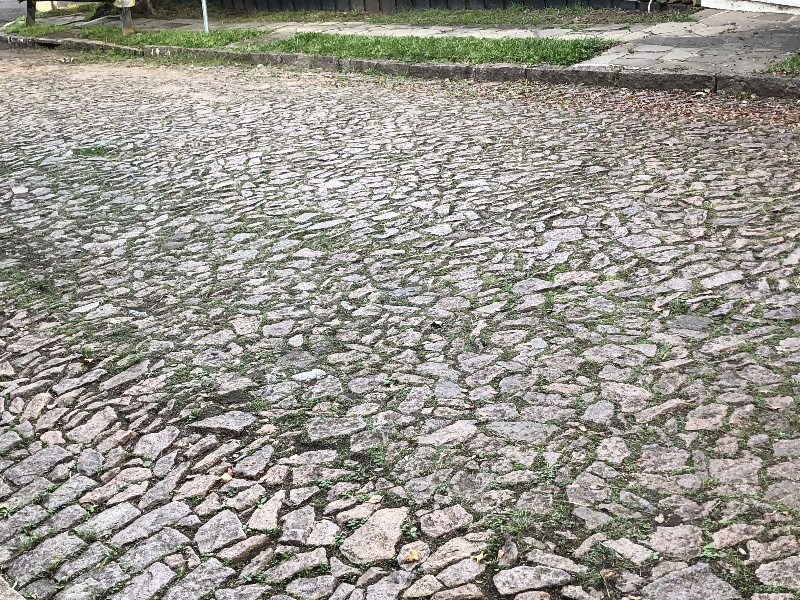v15: (2, 1, 798, 123)
